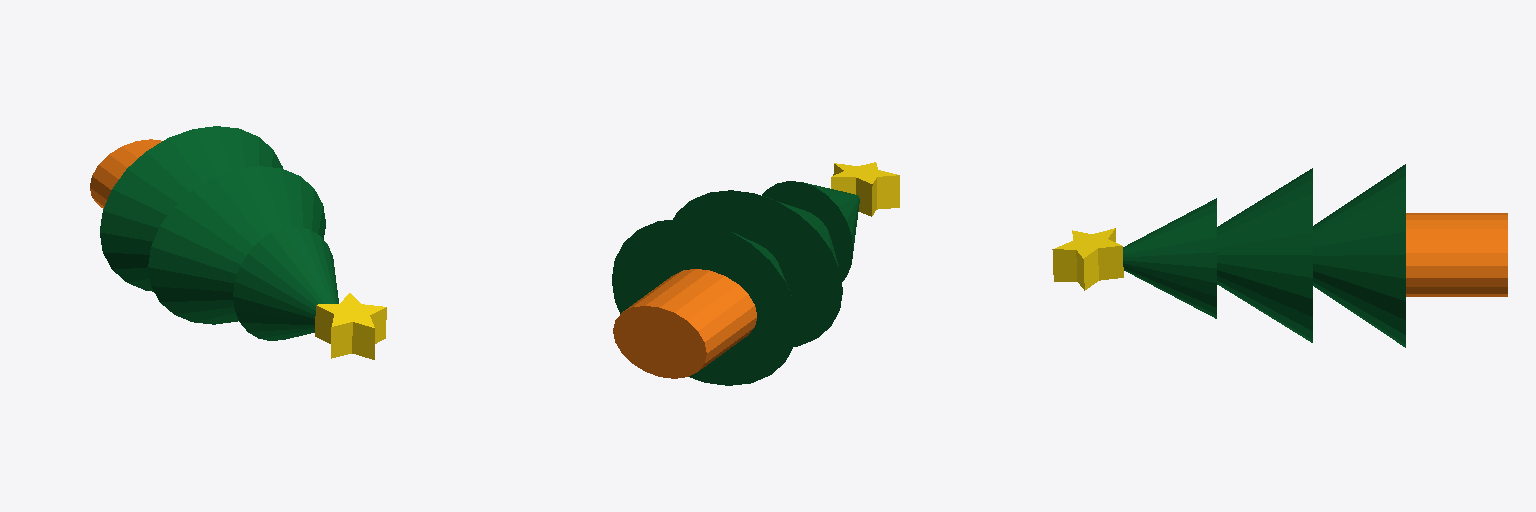
The model's file is tinker.obj.
3 views of the same model, side by side, from view 1: azimuth 30°, elevation 25°; view 2: azimuth 150°, elevation 25°; view 3: azimuth 270°, elevation 25° (orthographic).
Visible parts, largest first — view 1: obj_0; view 2: obj_0; view 3: obj_0.
Boxes of the visible parts, <box> form: obj_0: <box>90,126,386,359</box>; obj_0: <box>612,162,899,385</box>; obj_0: <box>1052,164,1507,347</box>.
Bounding box in the file's own units: 115 × 95 × 243.